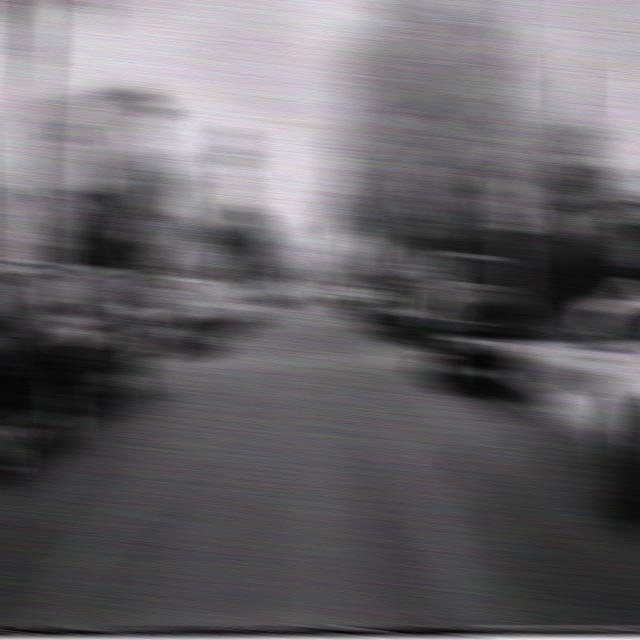speedLimit25: (496, 179, 534, 232)
